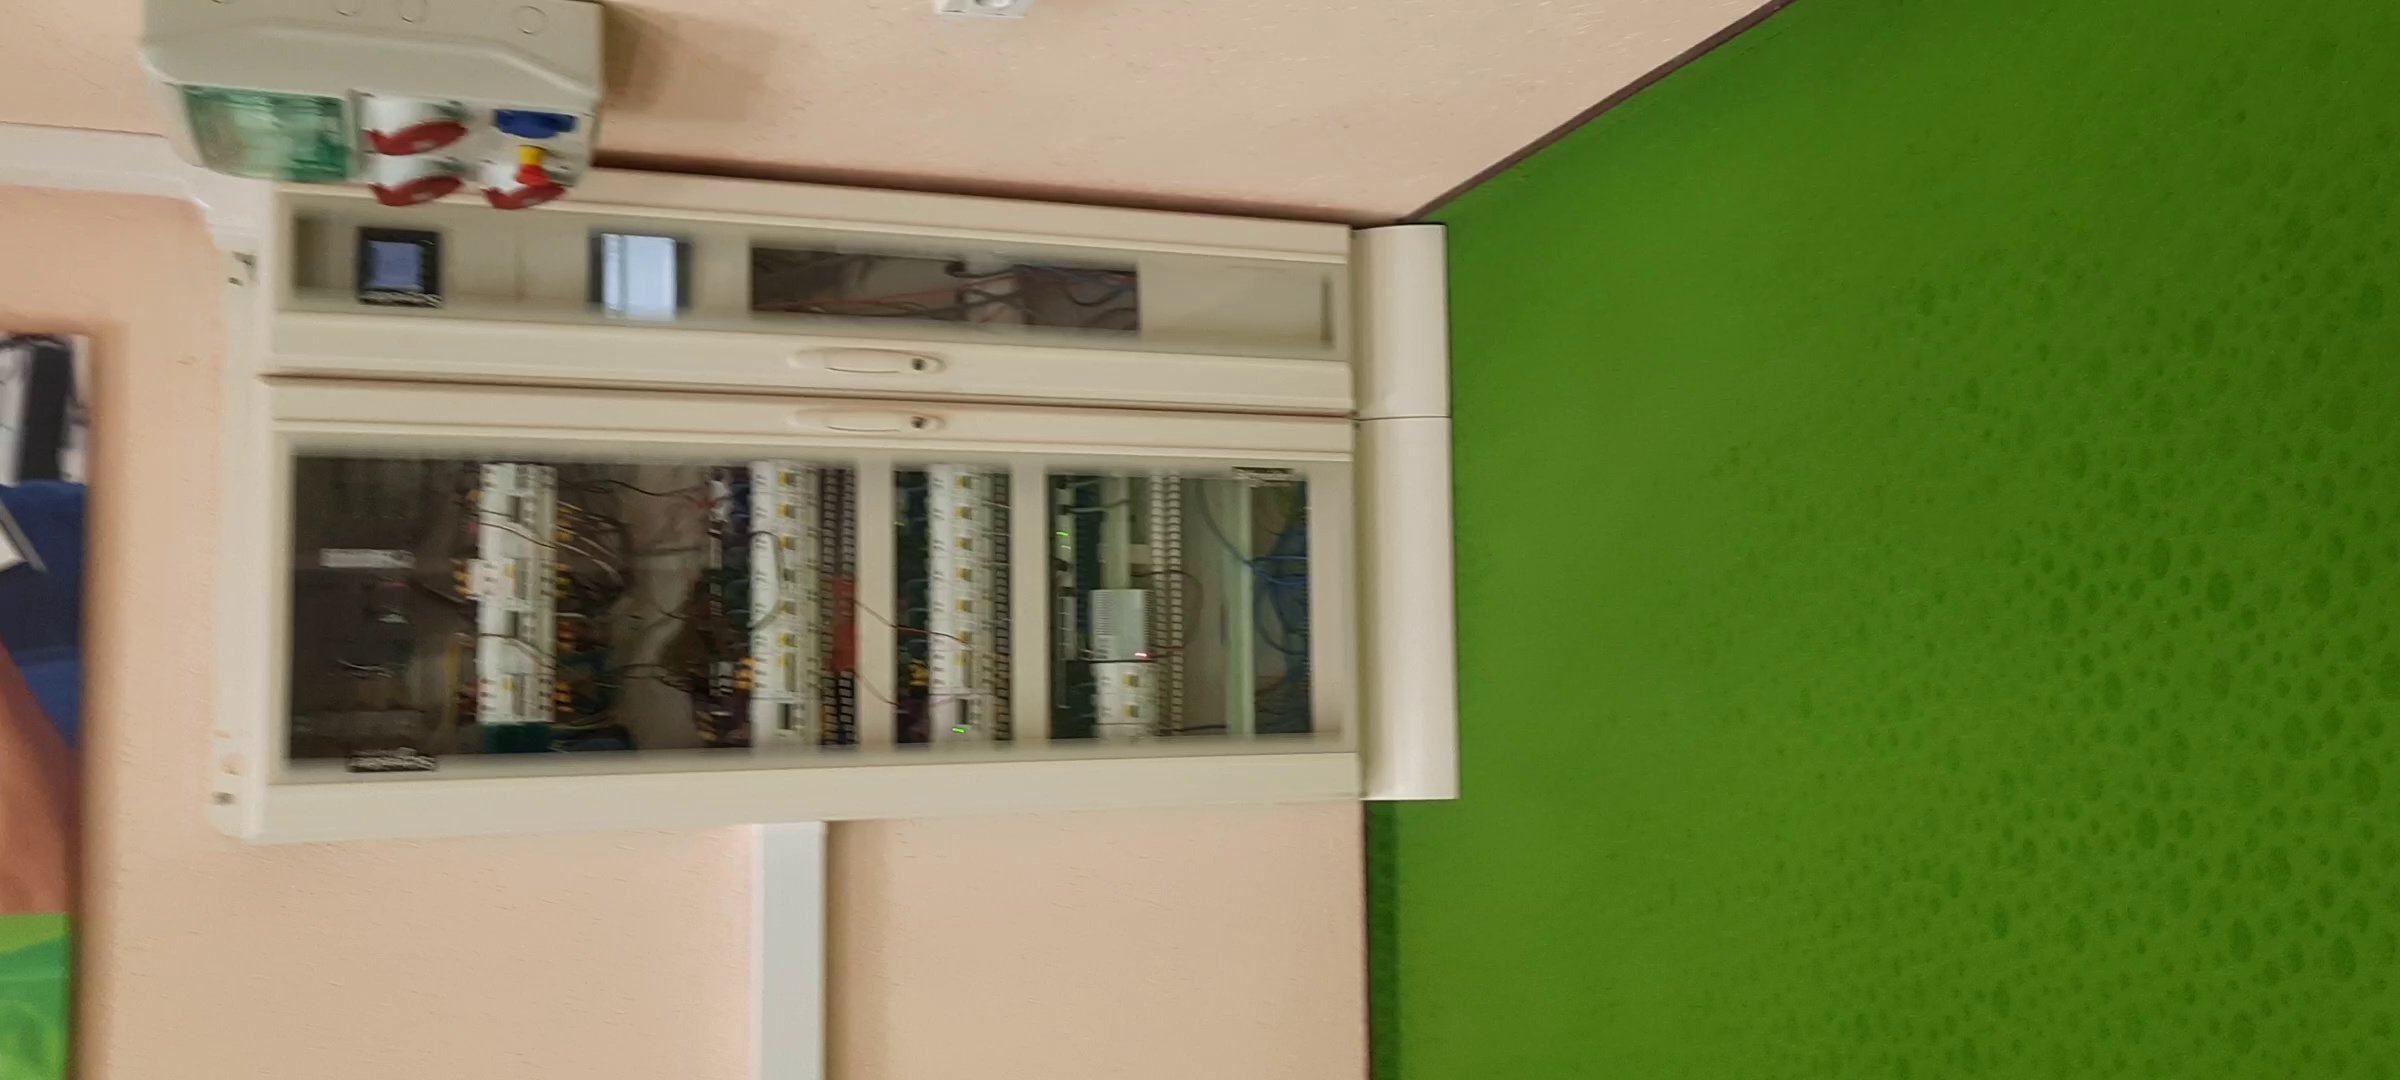stand1: (231, 171, 1466, 831)
